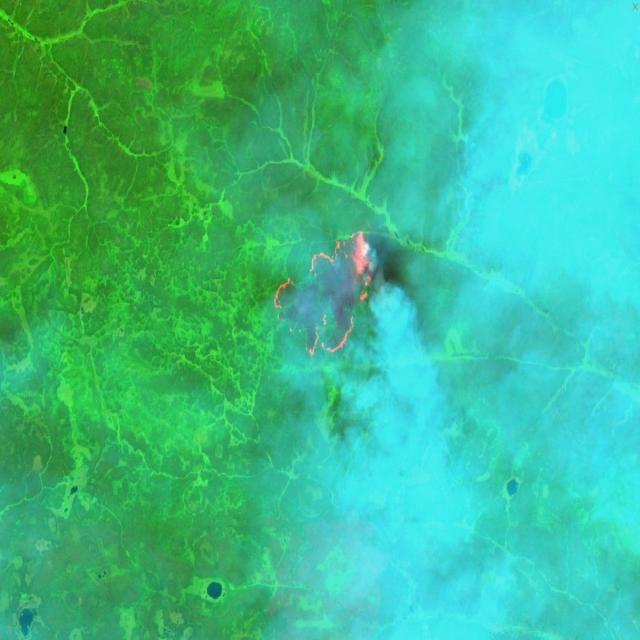fire: (266, 224, 382, 360)
